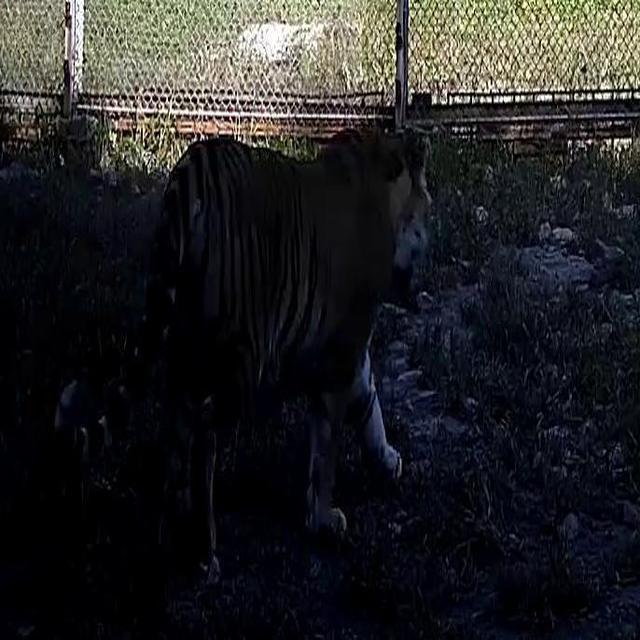tiger: (46, 67, 462, 589)
